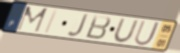B: (84, 14, 113, 41)
I: (43, 9, 60, 36)
J: (66, 13, 90, 38)
M: (15, 5, 49, 34)
U: (132, 19, 162, 47), (113, 18, 140, 44)
